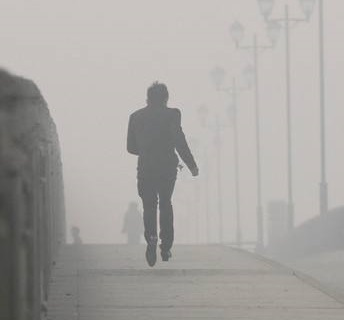person: (126, 79, 203, 267), (122, 201, 142, 243), (69, 225, 81, 244)
